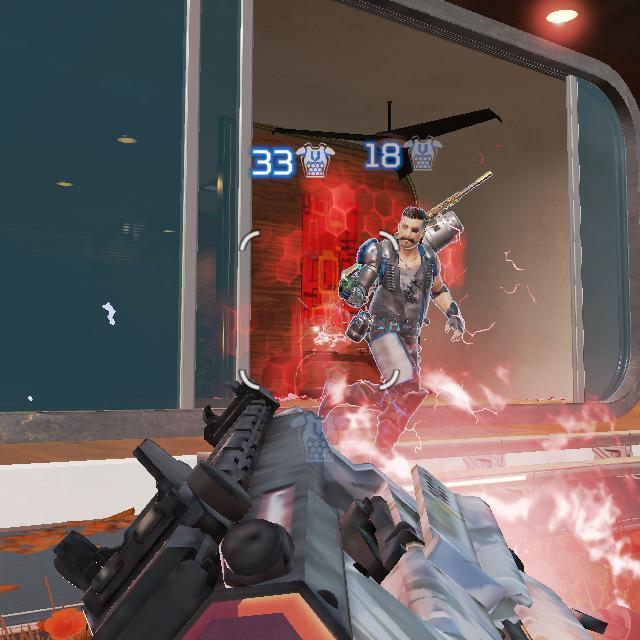avatar: (338, 204, 442, 469)
